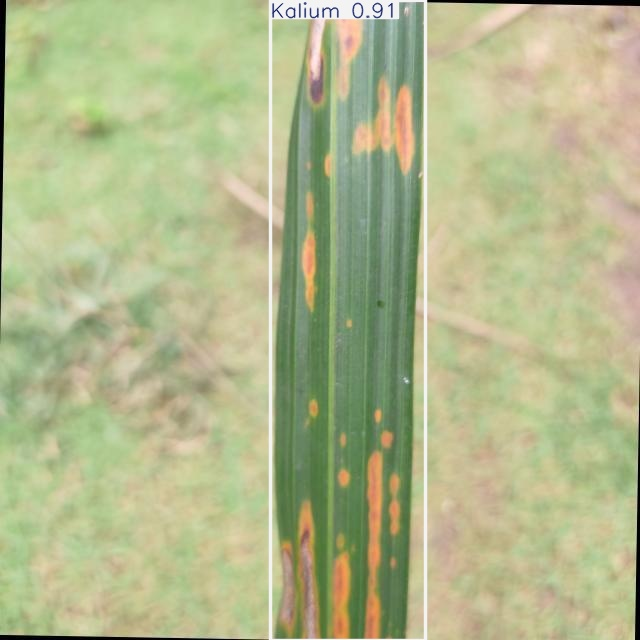Kalium: (271, 0, 425, 640)
